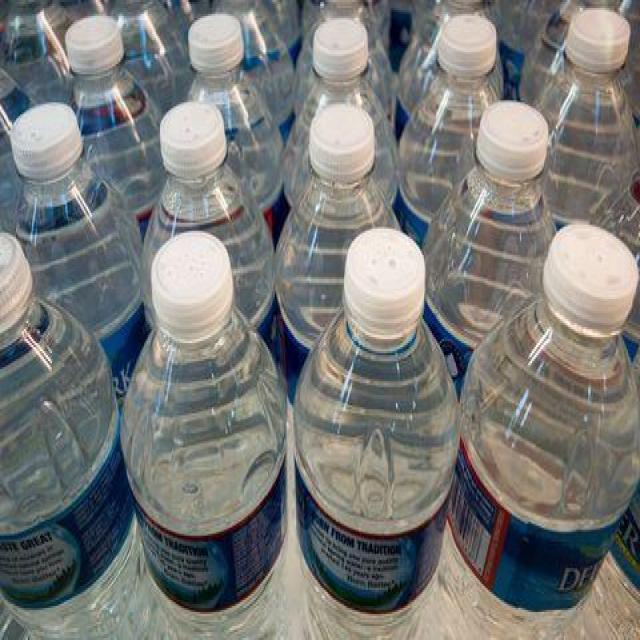plastic_bottle: (455, 207, 640, 640), (114, 235, 306, 640), (288, 205, 467, 636), (1, 219, 149, 640), (136, 59, 256, 246)
